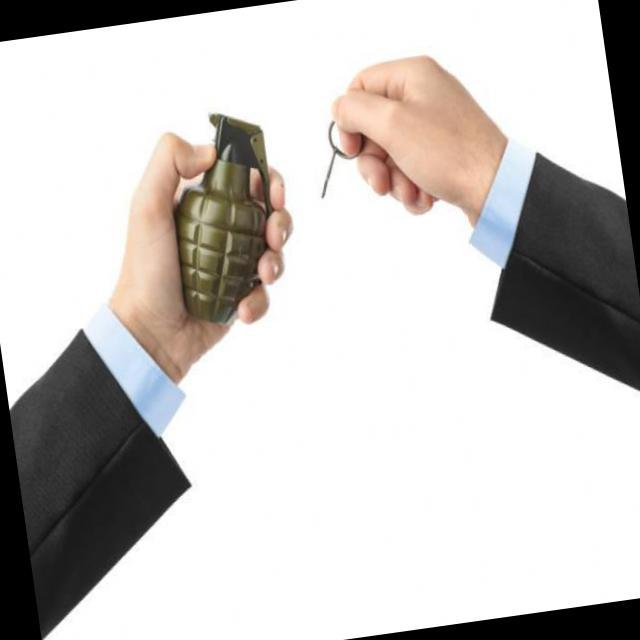grenade: (151, 101, 311, 326)
